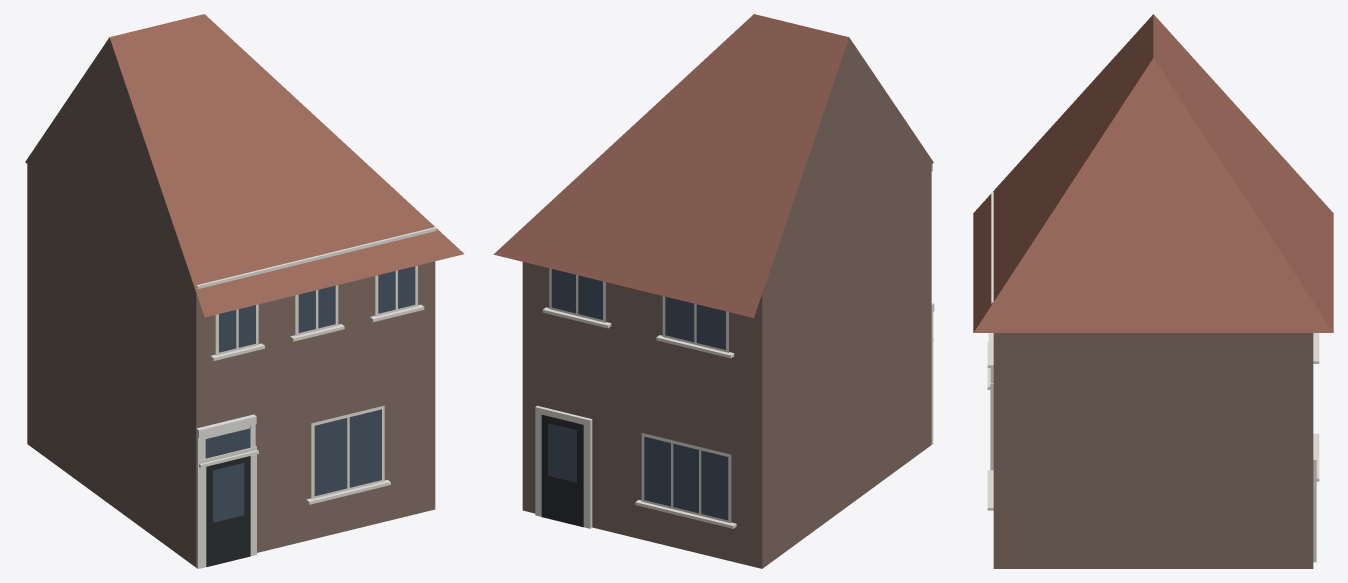
Rendered from nn-row-small__small-grey__2__hip__long__solid__endR.glb.
3 renders of one model, left to right at view 1: azimuth 30°, elevation 25°; view 2: azimuth 150°, elevation 25°; view 3: azimuth 270°, elevation 25°, orthographic. The views are drawn at different scales.
Visible parts, largest first — view 1: nn-row-small__small-grey__2__hip__long__solid__endR; view 2: nn-row-small__small-grey__2__hip__long__solid__endR; view 3: nn-row-small__small-grey__2__hip__long__solid__endR.
Part boxes in pixels (bbox=[...]): nn-row-small__small-grey__2__hip__long__solid__endR: bbox=[25, 14, 463, 568]; nn-row-small__small-grey__2__hip__long__solid__endR: bbox=[493, 14, 934, 568]; nn-row-small__small-grey__2__hip__long__solid__endR: bbox=[973, 14, 1333, 568].
Size of the model in its own units: 5.59 by 9.64 by 7.09.
